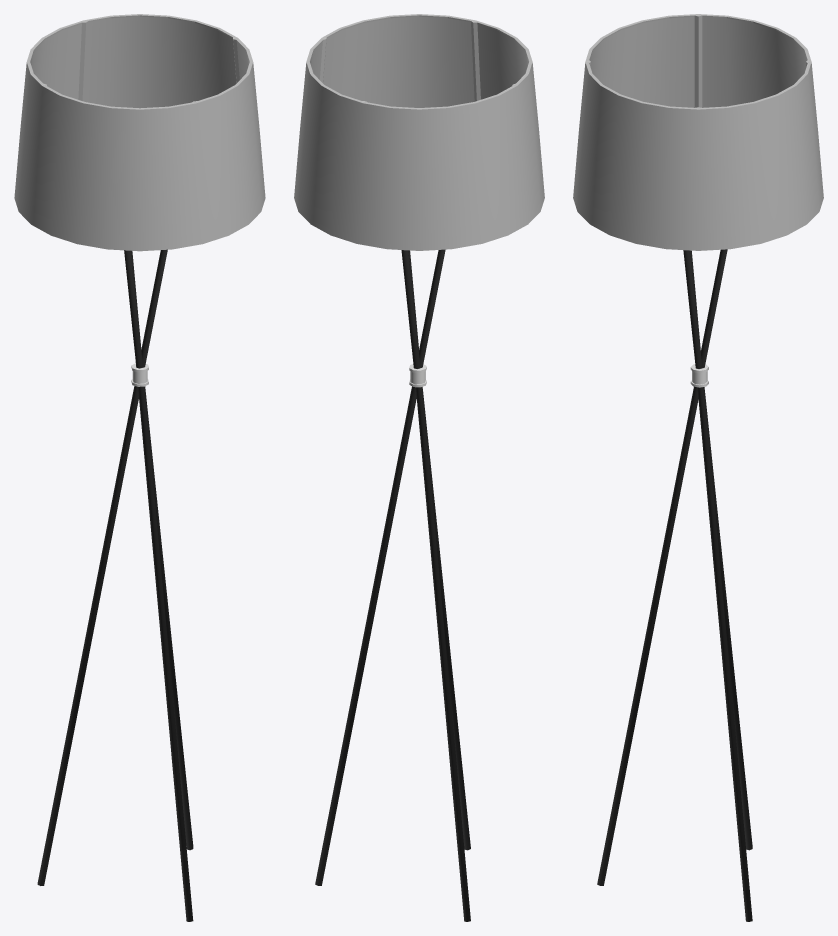
The model's file is StandingLamp_01.fbx.
The picture shows the model from 3 angles, left to right: view 1: azimuth 30°, elevation 25°; view 2: azimuth 150°, elevation 25°; view 3: azimuth 270°, elevation 25°; orthographic projection.
Parts seen in each view (by area): view 1: Cover_01, Stand_01, CoverSupport_01; view 2: Cover_01, Stand_01, CoverSupport_01; view 3: Cover_01, Stand_01, CoverSupport_01.
Part boxes in pixels (bbox=[...]): Cover_01: bbox=[14, 14, 265, 251]; Stand_01: bbox=[37, 249, 193, 921]; CoverSupport_01: bbox=[28, 14, 251, 108]; Cover_01: bbox=[294, 14, 544, 250]; Stand_01: bbox=[315, 249, 470, 921]; CoverSupport_01: bbox=[308, 14, 530, 108]; Cover_01: bbox=[573, 14, 823, 250]; Stand_01: bbox=[597, 249, 752, 921]; CoverSupport_01: bbox=[588, 15, 808, 108].
Bounding box in the file's own units: 18.69 × 67.65 × 18.69.
